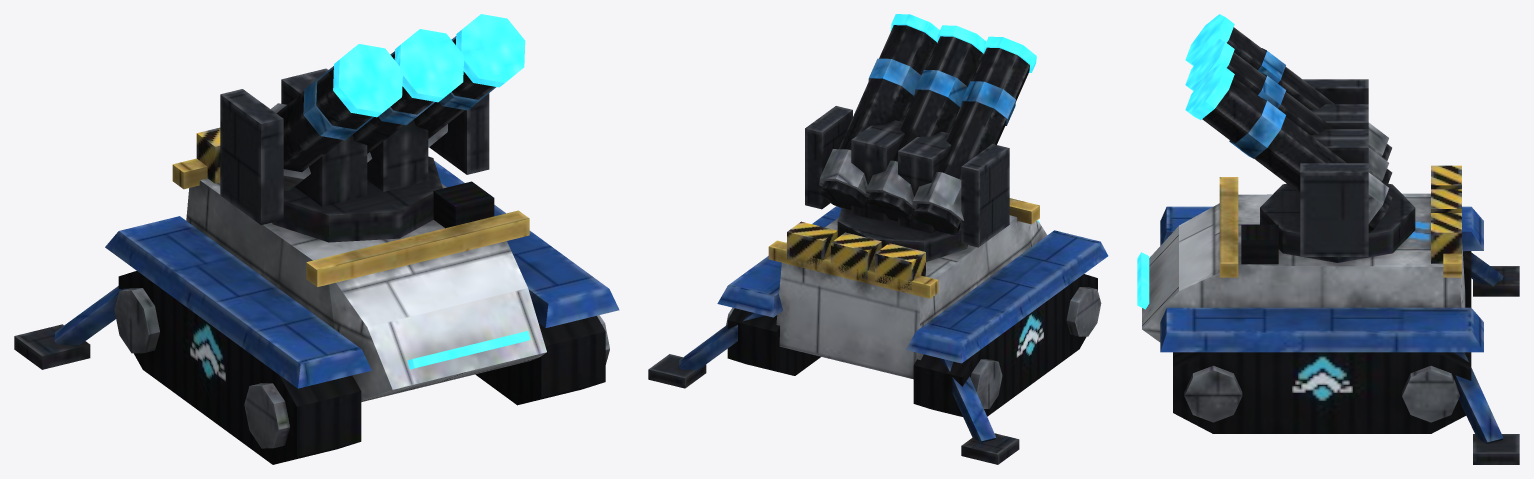
The model's file is u_mortar3_w.glb.
The picture shows the model from 3 angles, left to right: view 1: azimuth 30°, elevation 25°; view 2: azimuth 150°, elevation 25°; view 3: azimuth 270°, elevation 25°; orthographic projection. The views are drawn at different scales.
Visible parts, largest first — view 1: u_mortar3_w; view 2: u_mortar3_w; view 3: u_mortar3_w.
Part boxes in pixels (box(x1,y1,x2,y2)): u_mortar3_w: box(14, 14, 619, 464); u_mortar3_w: box(648, 14, 1108, 464); u_mortar3_w: box(1137, 14, 1519, 464).
Size of the model in its own units: 1.68 by 1.37 by 1.45.
Materials: 1 (1 with a texture image).
